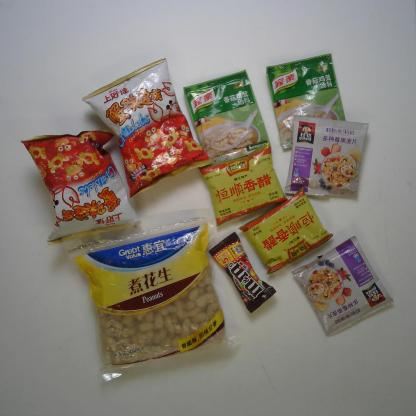Chocolate: (209, 230, 278, 316)
Dried Food: (63, 207, 241, 382)
Instant Drink: (293, 236, 393, 336), (283, 114, 369, 202)
Puffed Food: (82, 57, 212, 199), (21, 130, 139, 246)
Seasoner: (181, 69, 271, 170), (237, 188, 334, 276), (267, 52, 349, 151), (199, 145, 287, 225)
